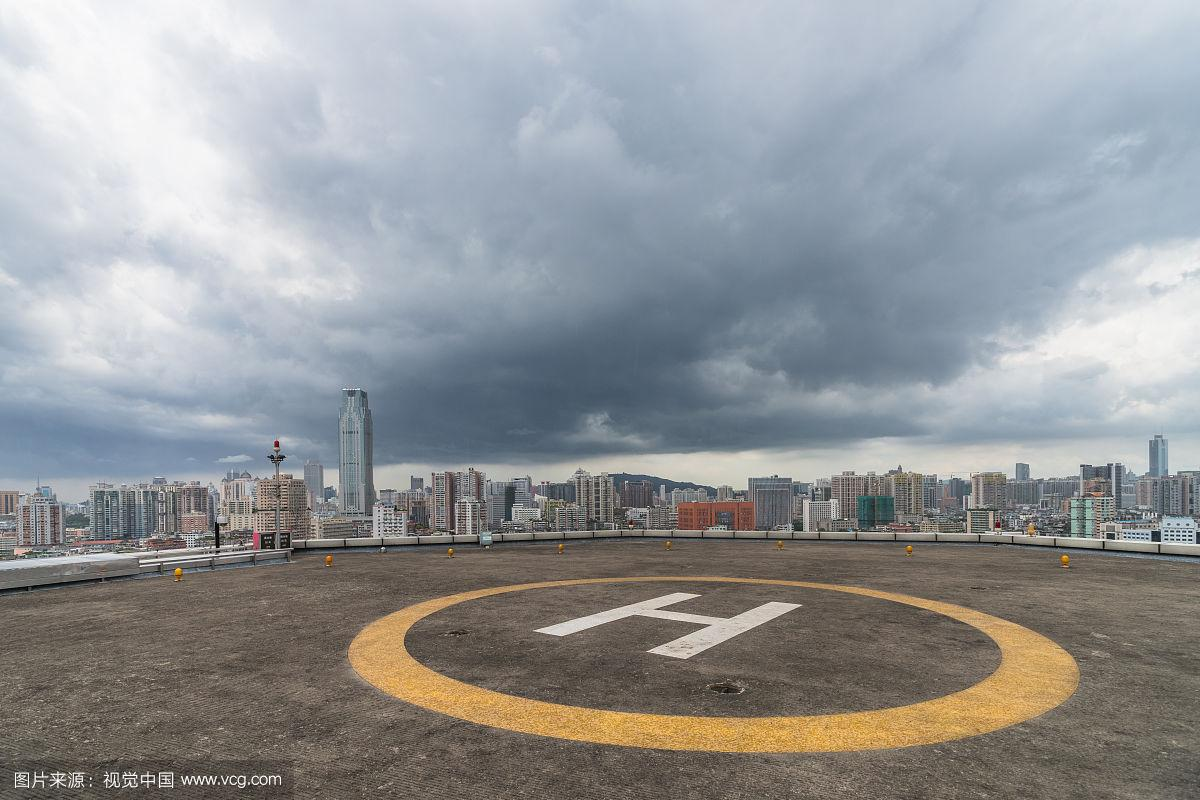Apron: (344, 570, 1082, 755)
